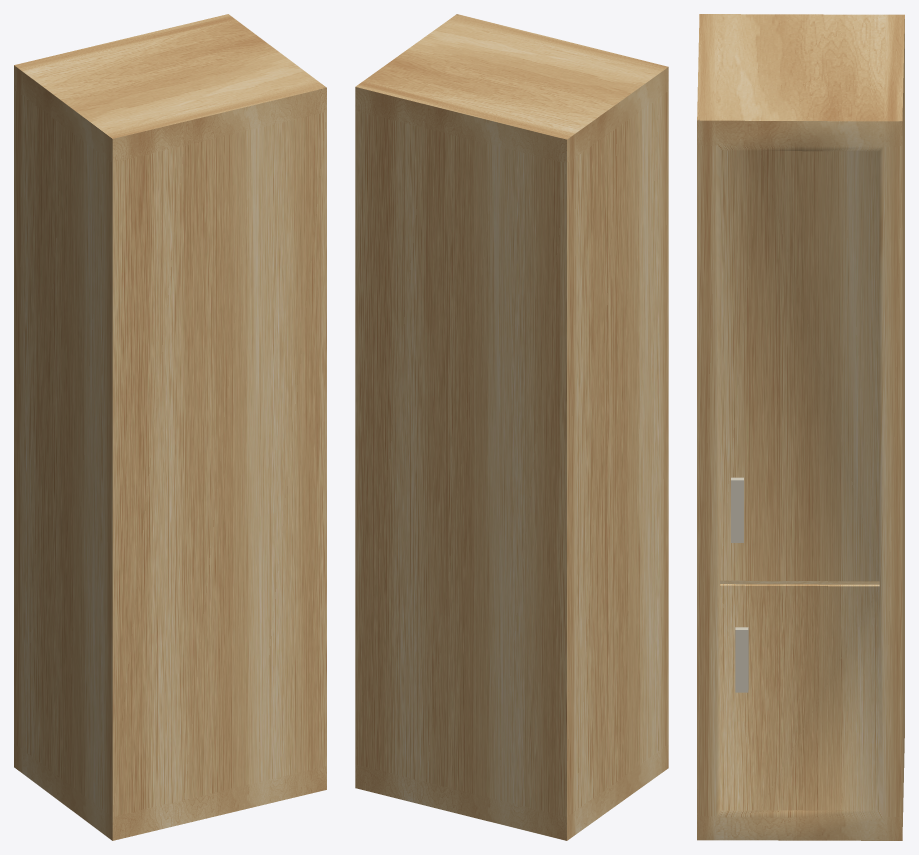
Rendered from Closet2.fbx.
The picture shows the model from 3 angles, left to right: view 1: azimuth 30°, elevation 25°; view 2: azimuth 150°, elevation 25°; view 3: azimuth 270°, elevation 25°; orthographic projection. The views are drawn at different scales.
Parts seen in each view (by area): view 1: Box058; view 2: Box058; view 3: Box058, ручка1234, Ручки006.
Part boxes in pixels (x1,y1,x2,y2): Box058: (14, 14, 326, 840); Box058: (355, 14, 668, 840); Box058: (697, 14, 904, 840); ручка1234: (735, 627, 748, 692); Ручки006: (731, 477, 743, 542).
Bounding box in the file's own units: 608 × 1862 × 488.
Materials: 2 (1 with a texture image).
